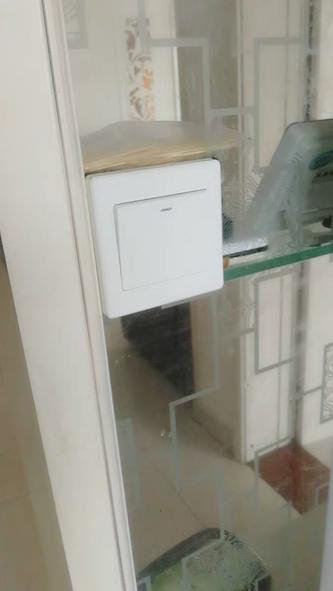switch: (114, 199, 216, 277)
